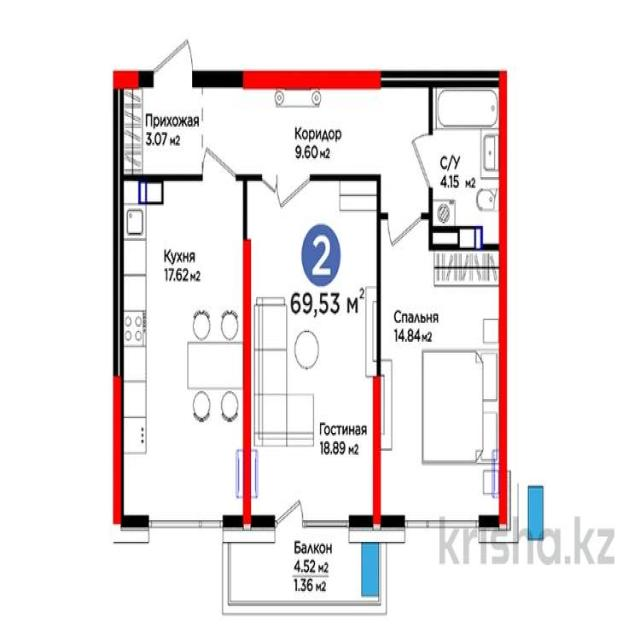balcony: (228, 524, 379, 607)
bathroom: (432, 79, 505, 248)
hallway: (200, 81, 430, 178), (114, 81, 203, 176)
kitchen: (116, 179, 246, 523)
living_room: (244, 178, 379, 529), (379, 246, 503, 520)
